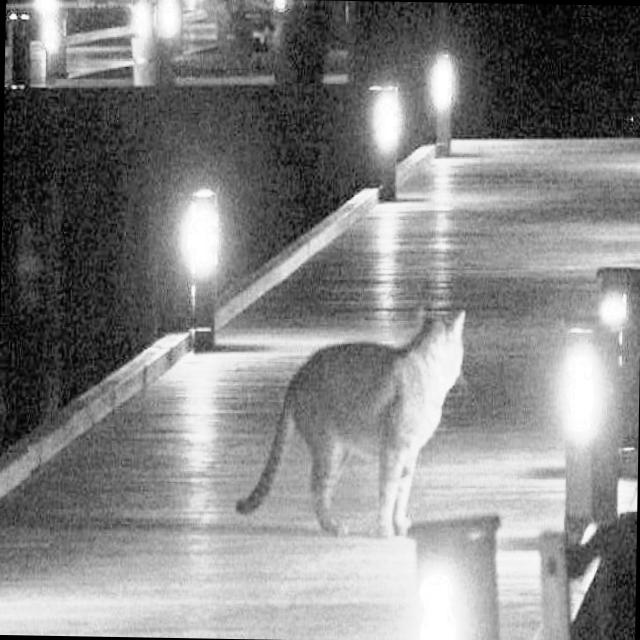Cat: (240, 308, 466, 538)
